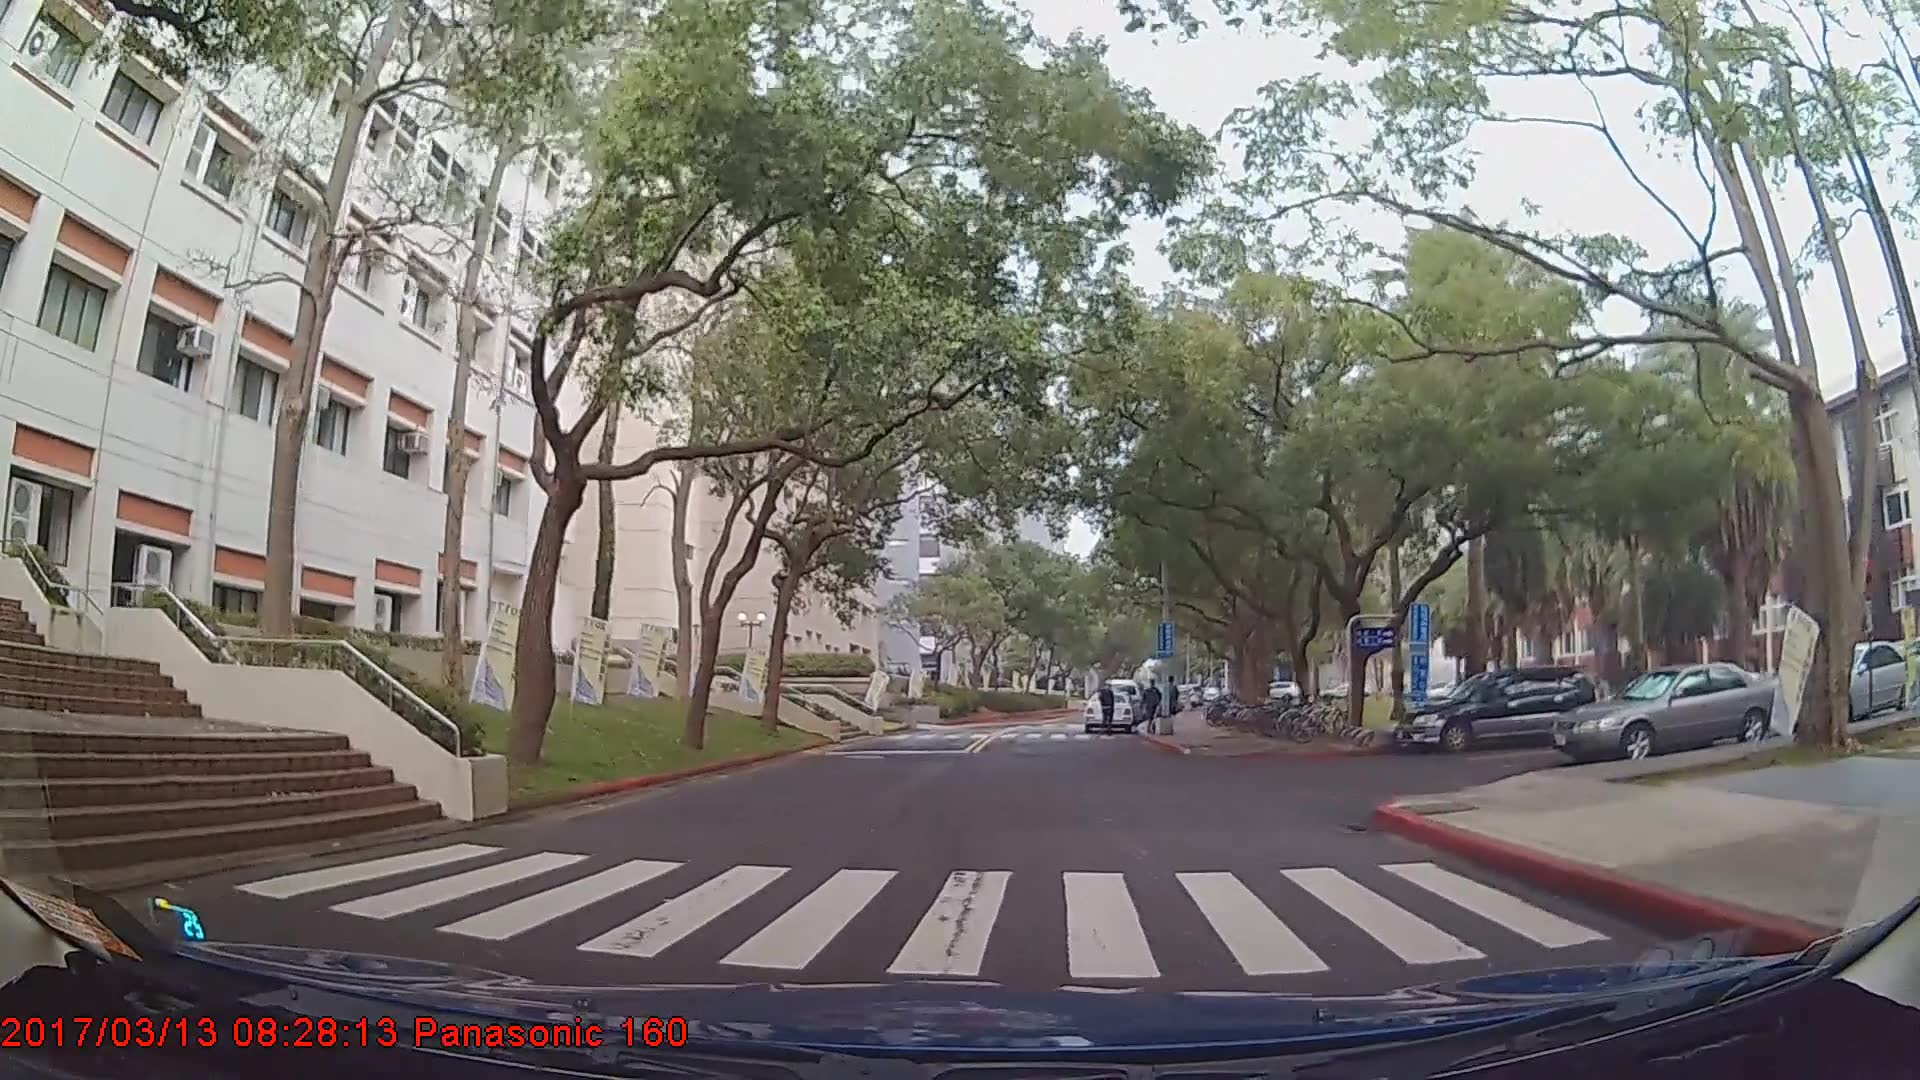pedestrian: (1141, 678, 1166, 731), (1096, 683, 1116, 738)
vehicle: (1553, 658, 1781, 766), (1400, 663, 1598, 750), (1080, 688, 1135, 732)
